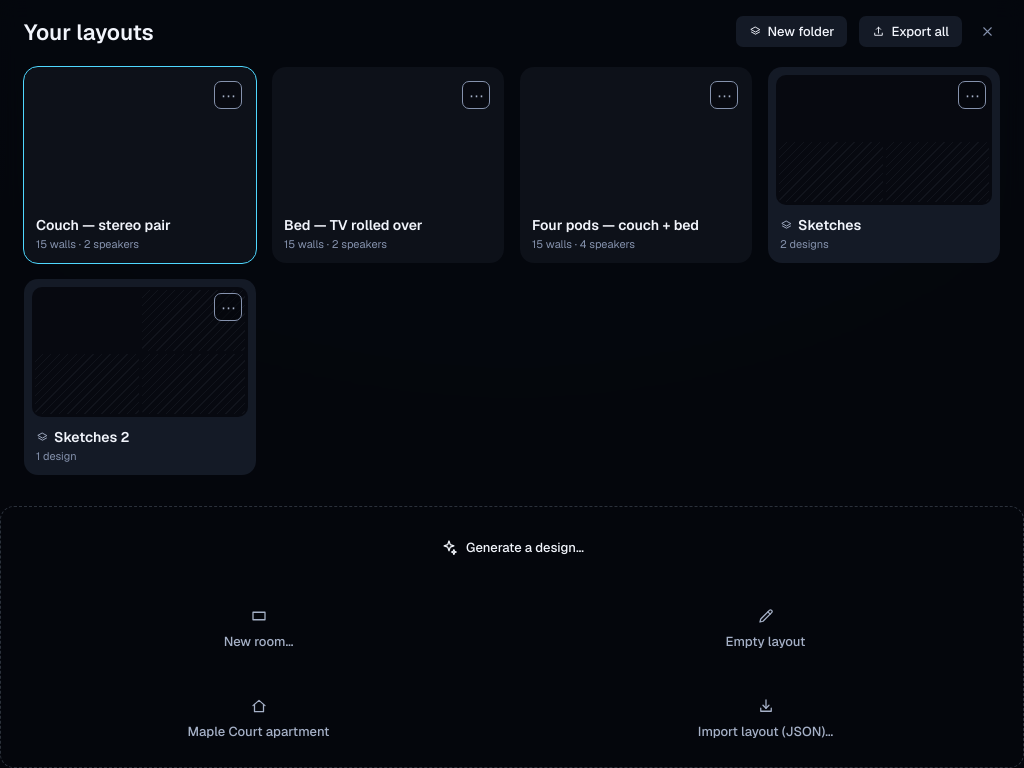
Test: LayoutGallery — the home screen › DRILLS IN to a folder and shows exactly its designs, then comes back
The width and height of the screenshot is (1024, 768).
Click the button "Sketches 2 1 design".
click(140, 377)  # box [24,279,256,475]
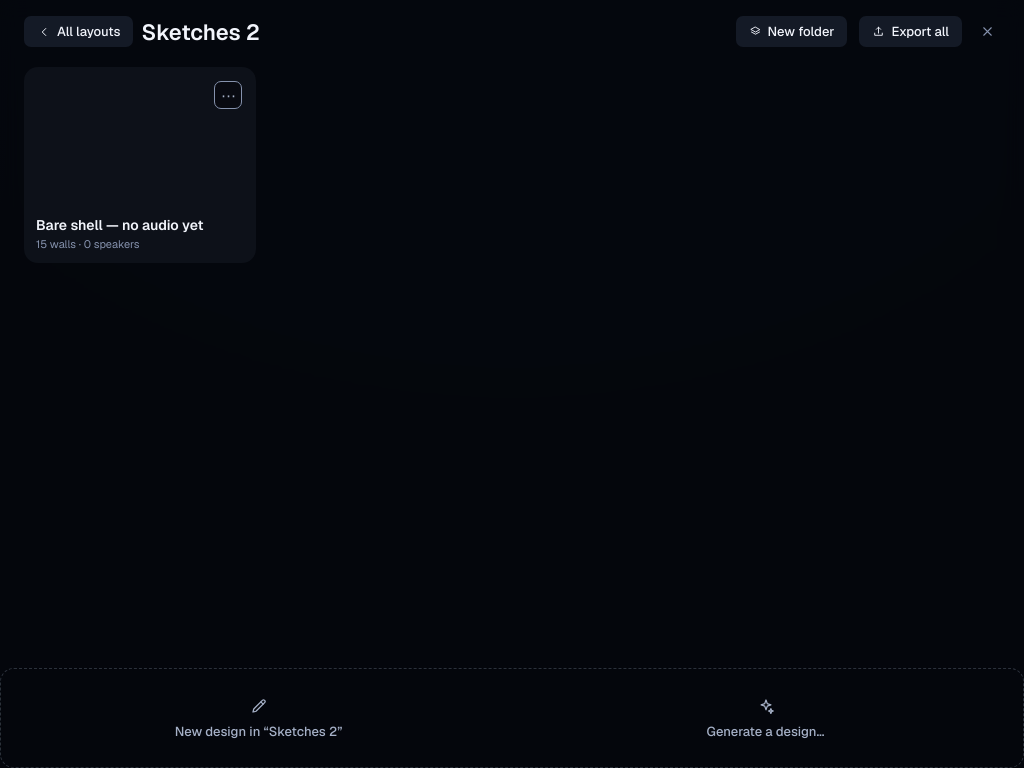
Result: the number of list items is 1 at [24,67,256,263]
Click the button "All layouts".
click(79, 32)  # box [24,16,133,47]
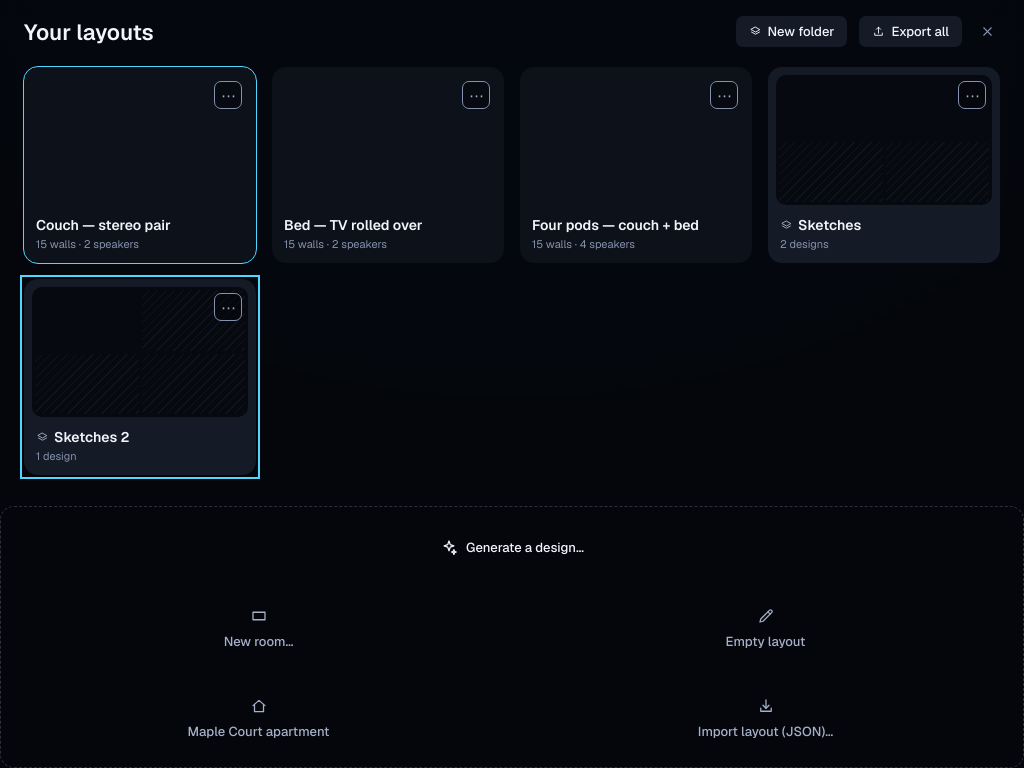
Result: the heading "Your layouts" is shown at [24,18,154,46]
